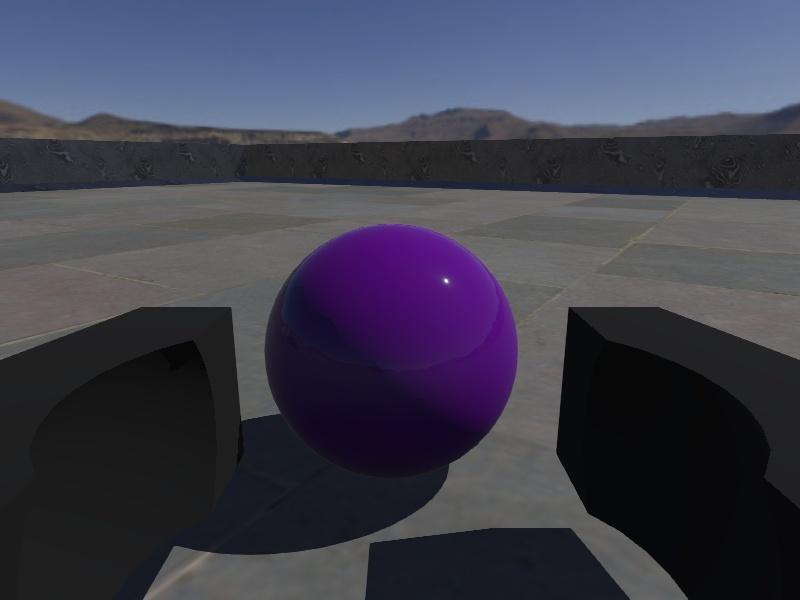violet ball: (263, 222, 519, 480)
